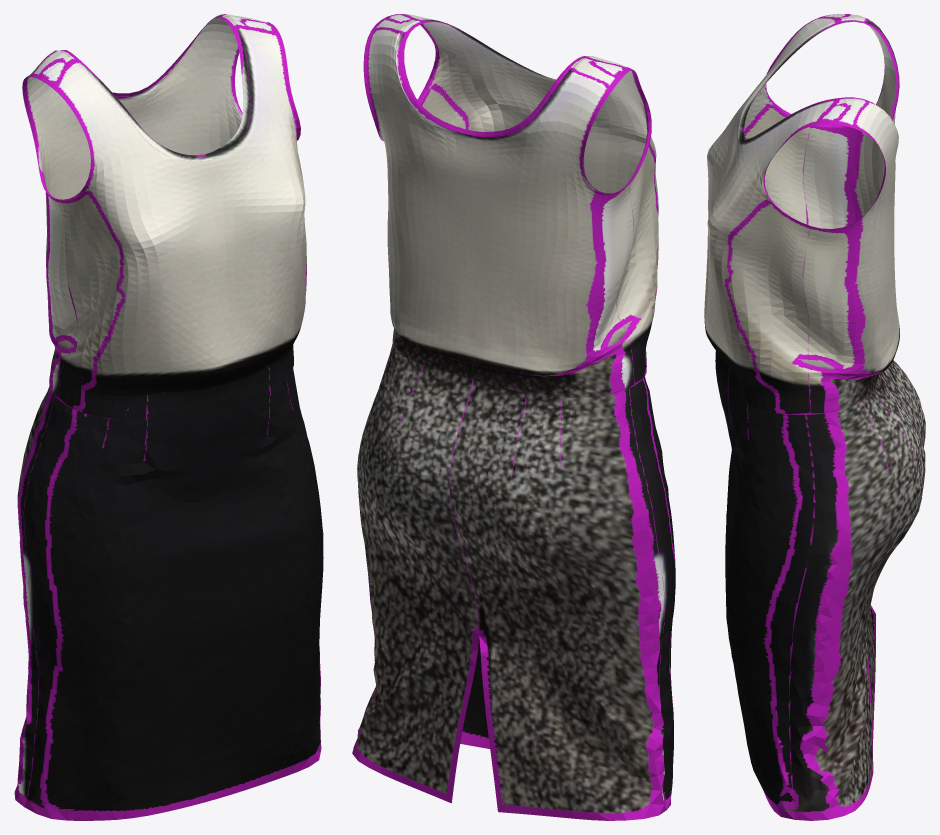
3 views of the same model, side by side, from view 1: azimuth 30°, elevation 25°; view 2: azimuth 150°, elevation 25°; view 3: azimuth 270°, elevation 25° (orthographic). The views are drawn at different scales.
Bounding box in the file's own units: 0.3943 × 0.9398 × 0.2683.
Materials: 1 (1 with a texture image).
